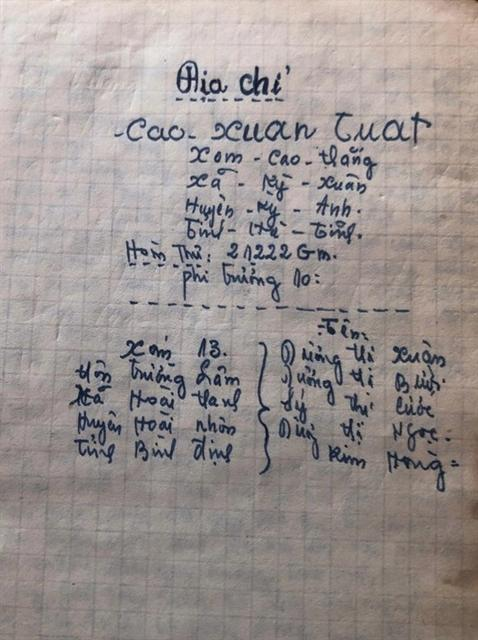text: (110, 107, 435, 147), (277, 336, 448, 385), (185, 143, 379, 181), (276, 416, 441, 460), (277, 364, 448, 406), (175, 260, 324, 306), (75, 356, 240, 397), (325, 442, 451, 495), (182, 191, 354, 228), (73, 408, 239, 446), (280, 385, 436, 425), (122, 240, 338, 268), (185, 170, 368, 203), (72, 434, 236, 469), (171, 58, 294, 104), (181, 215, 362, 245), (65, 385, 245, 415), (117, 332, 228, 363), (316, 311, 373, 346)
